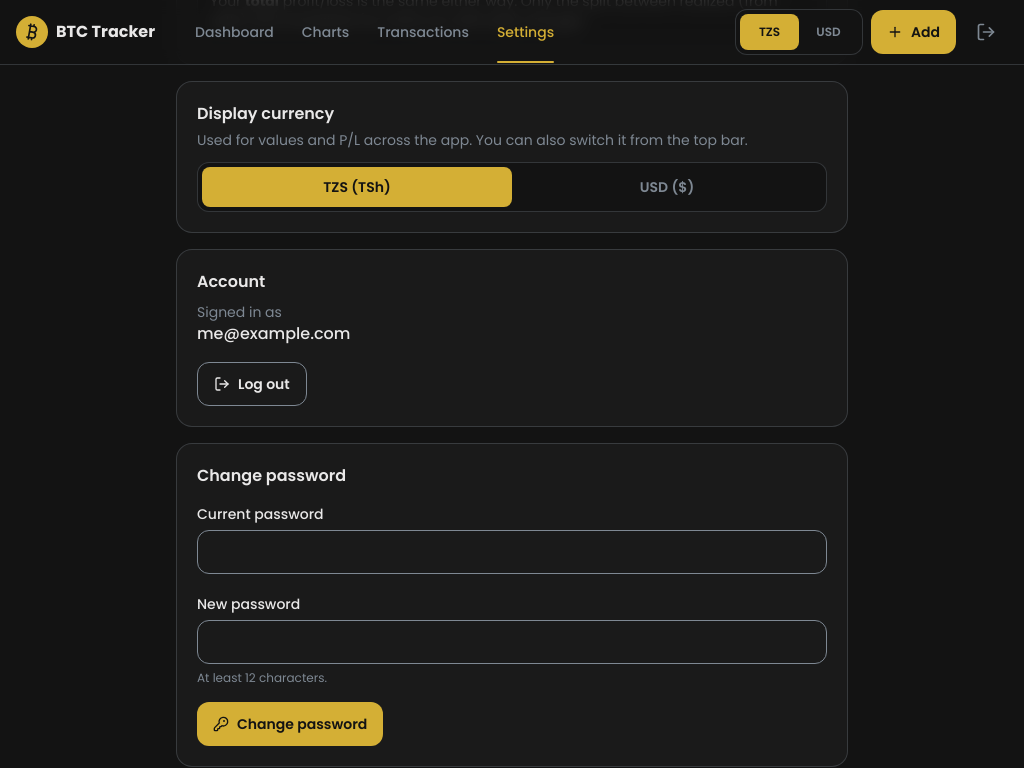
Test: log out › "Yes, log out" signs you out and goes to the login page
This screenshot has width=1024, height=768.
(page scrolled)
Step 1. Click the button "Log out" → (252, 384), box [197,362,307,406]
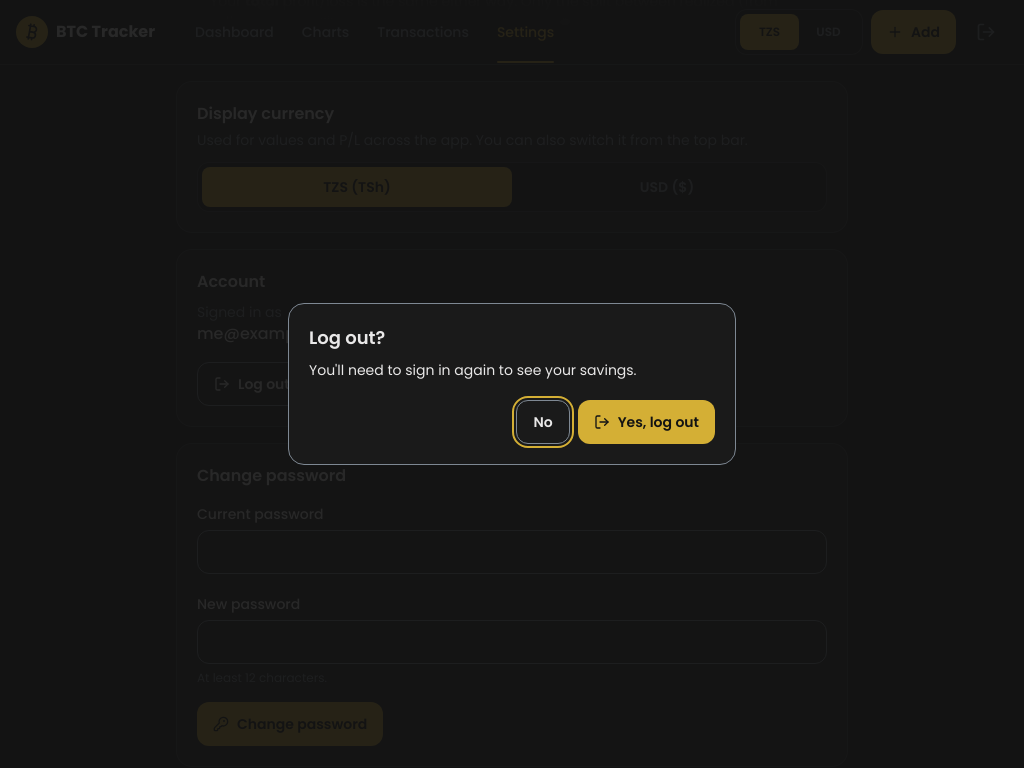
Step 2. Click the button "Yes, log out" → (646, 422), box [578,400,715,444]
(page scrolled)
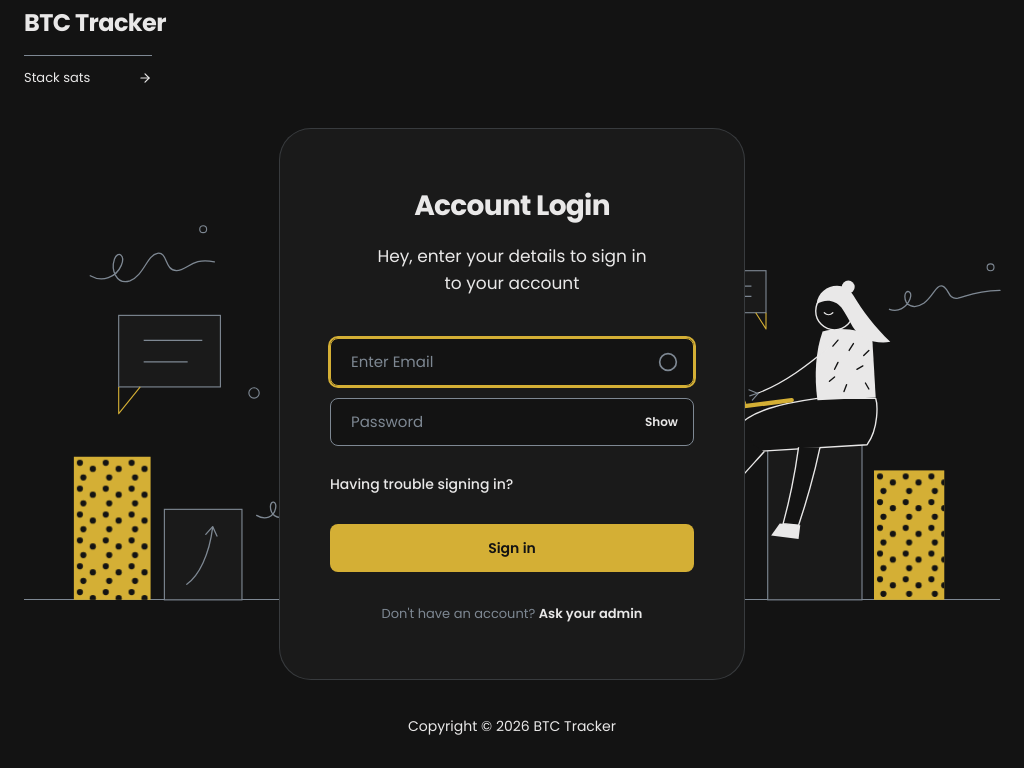
Now the button "Sign in" is shown, box [330,524,694,572]
